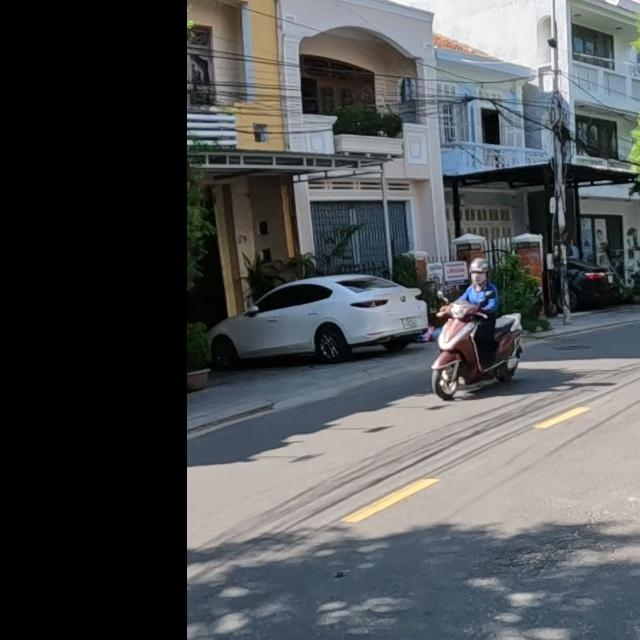license-plate: (402, 317, 416, 327)
